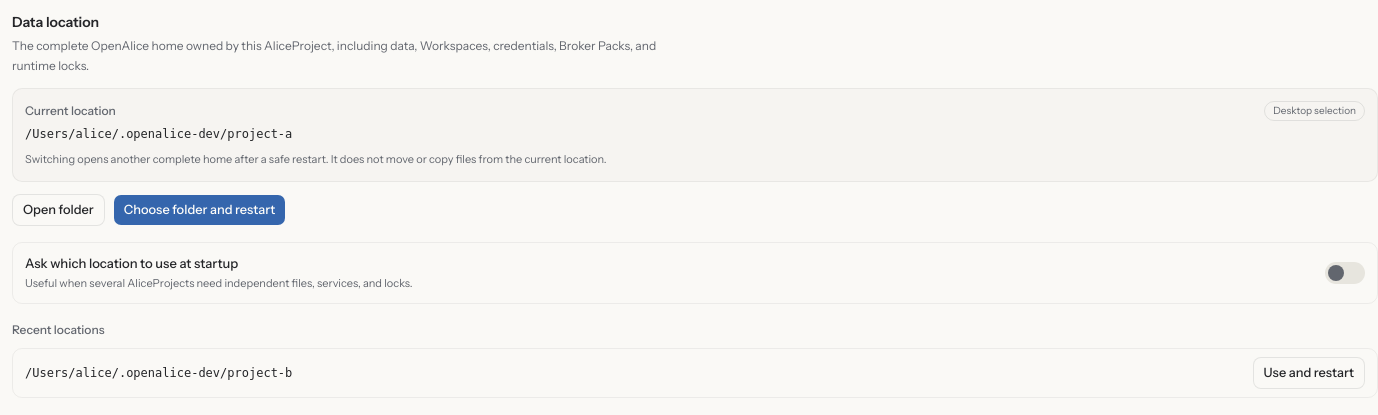
Test: DataHomeSection › shows the complete desktop home and can switch to a recent location
Expected: the text "/Users/alice/.openalice-dev/project-a" is shown, [25,127,292,141]
Expected: the text "Desktop selection" is shown, [1264,101,1365,121]
Click the button "Use and restart" at (1309, 373), box [1253,357,1365,389]
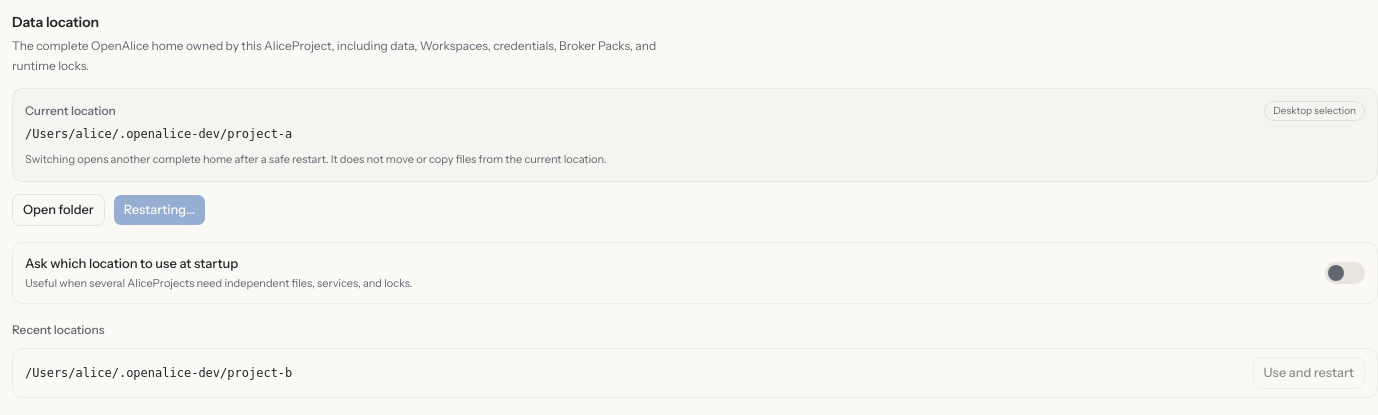
Expected: the button "Restarting..." is shown, [113,194,206,226]
